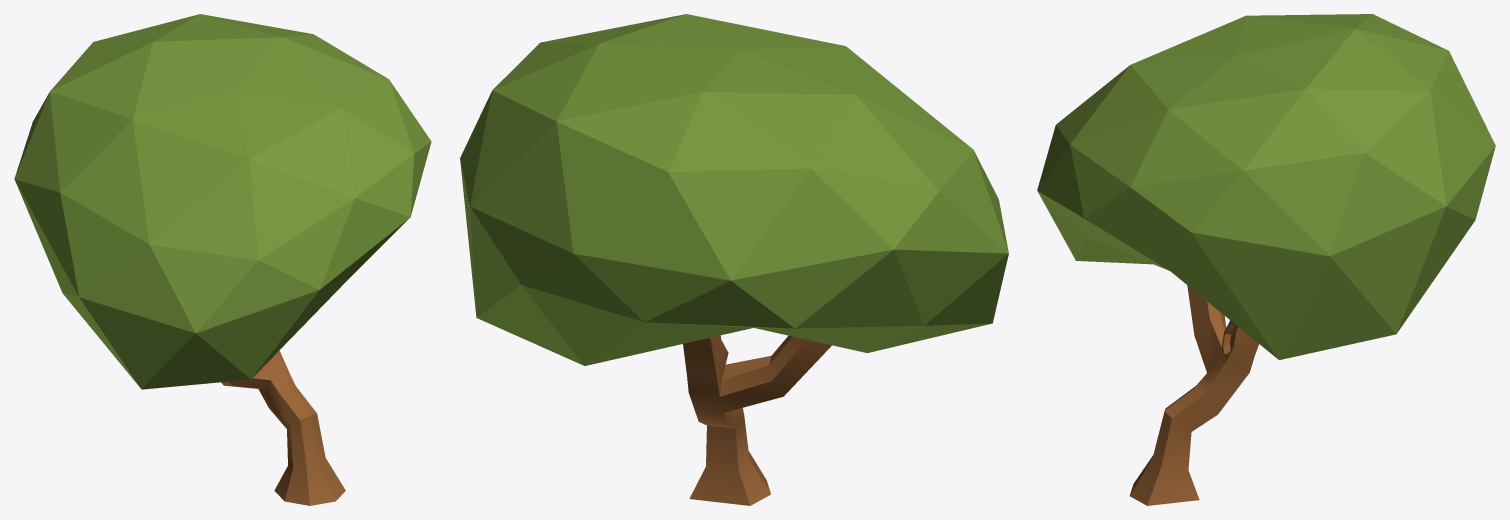
Rendered from Tree_1.fbx.
The picture shows the model from 3 angles, left to right: view 1: azimuth 30°, elevation 25°; view 2: azimuth 150°, elevation 25°; view 3: azimuth 270°, elevation 25°; orthographic projection. The views are drawn at different scales.
Visible parts, largest first — view 1: Tree_1; view 2: Tree_1; view 3: Tree_1.
Boxes of the visible parts, left/top/right/bottom form: Tree_1: left=14, top=14, right=431, bottom=505; Tree_1: left=460, top=14, right=1008, bottom=505; Tree_1: left=1037, top=14, right=1495, bottom=505.
Bounding box in the file's own units: 196 × 205 × 199.
